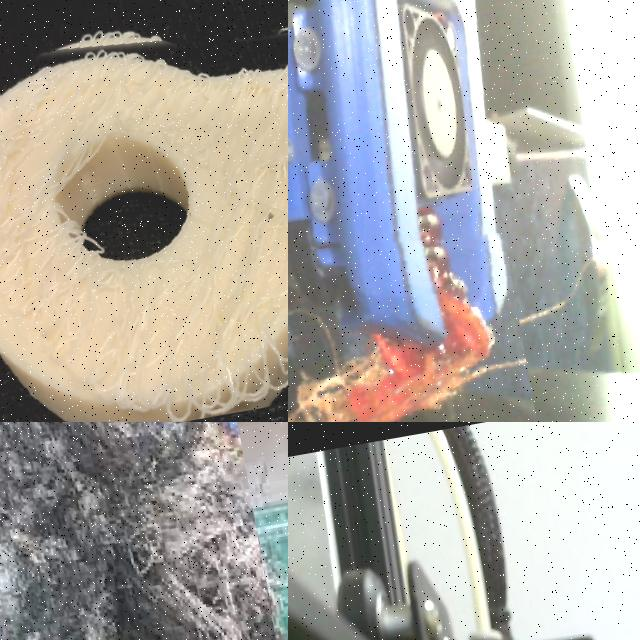spaghetti: (0, 0, 288, 422), (288, 232, 525, 422)
